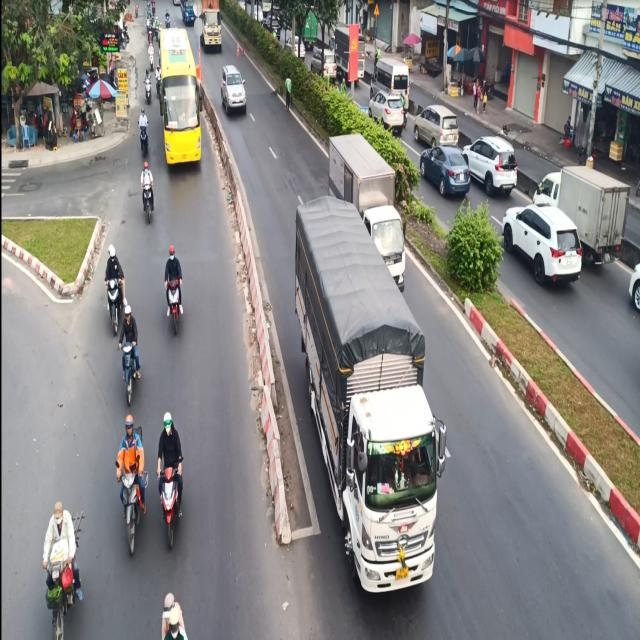bus: (159, 24, 204, 178)
car: (220, 60, 250, 116)
motor: (43, 491, 83, 640), (116, 403, 148, 561), (154, 409, 186, 552), (162, 245, 188, 337), (121, 301, 142, 409), (102, 244, 127, 333), (138, 161, 158, 231)
truck: (285, 192, 441, 608)
